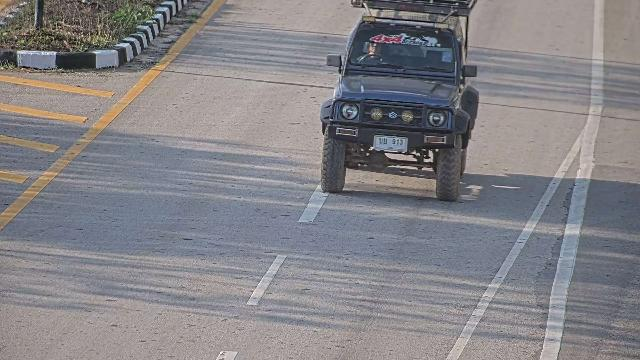pickup-truck: (319, 0, 480, 202)
